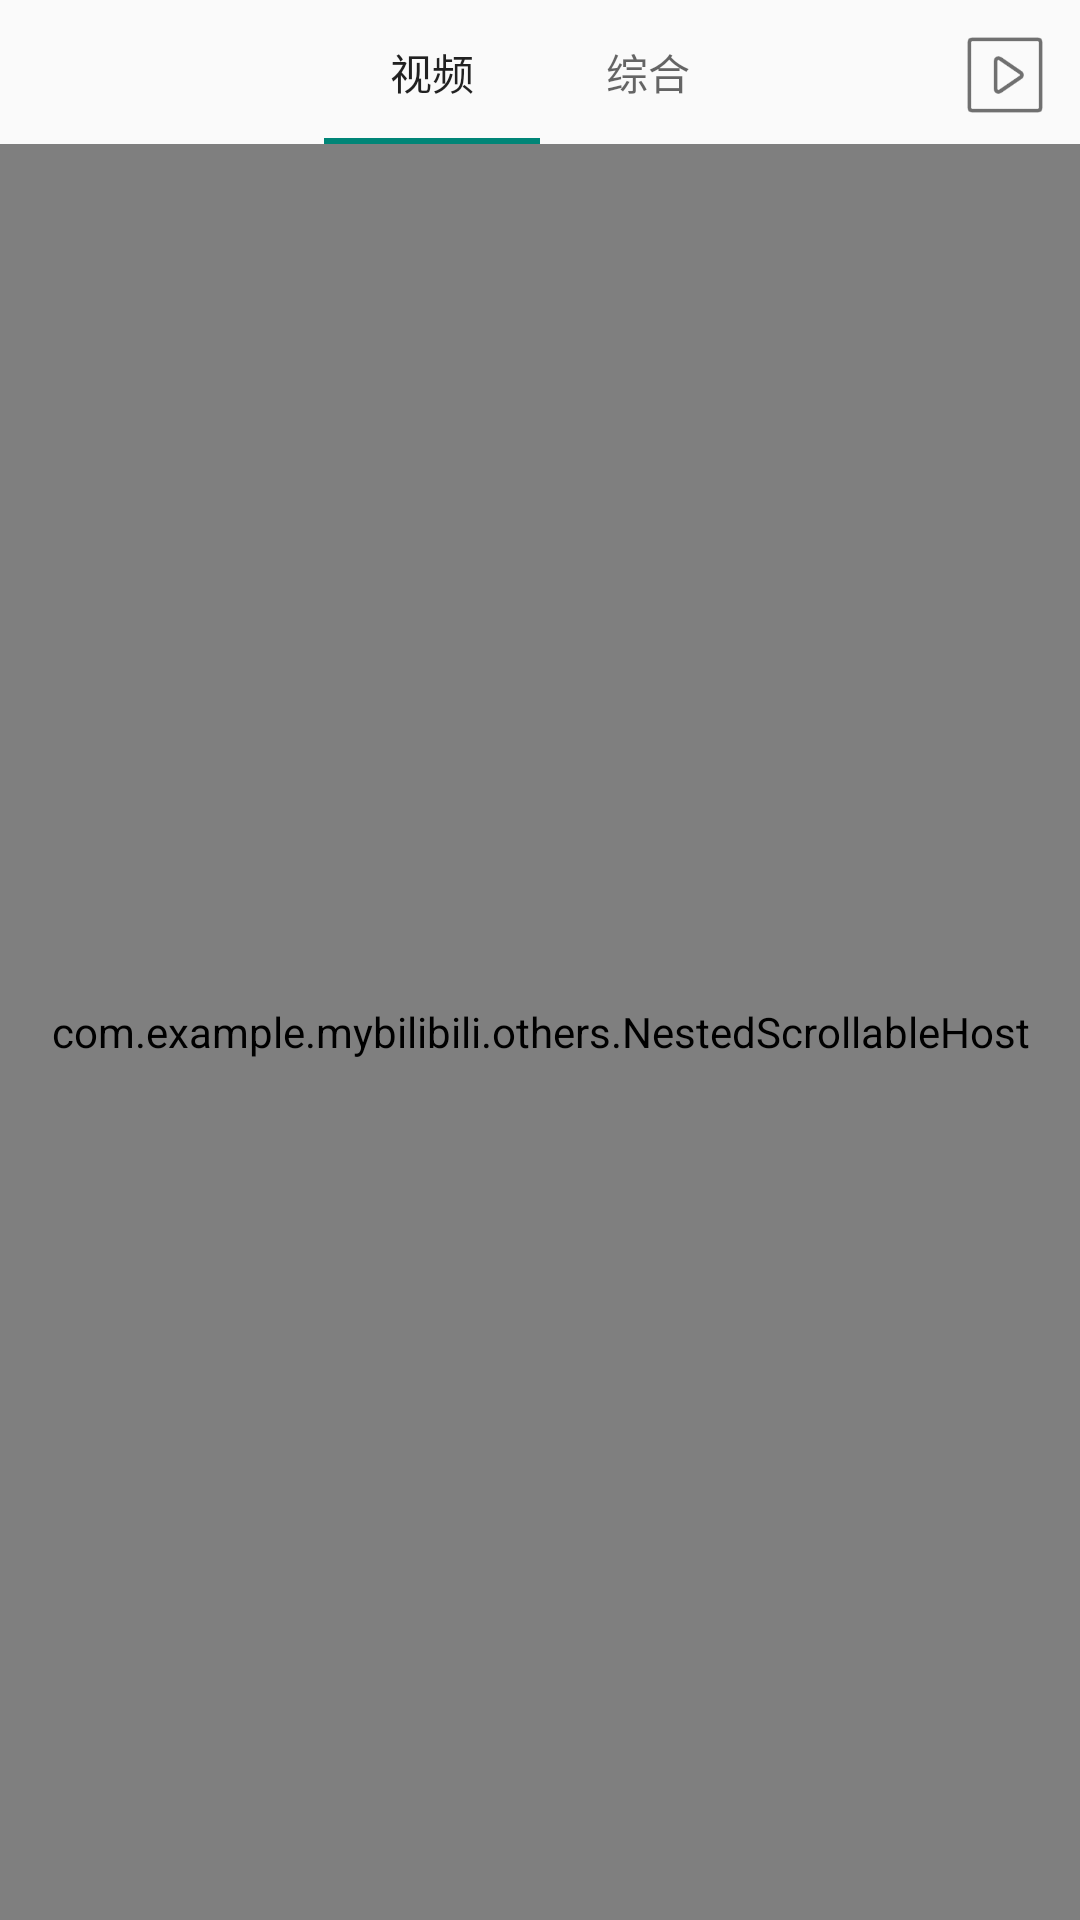

Named icons in this screenshot (1080x1920) and their centers, point (x, y):
bofang: point (1005, 75)
